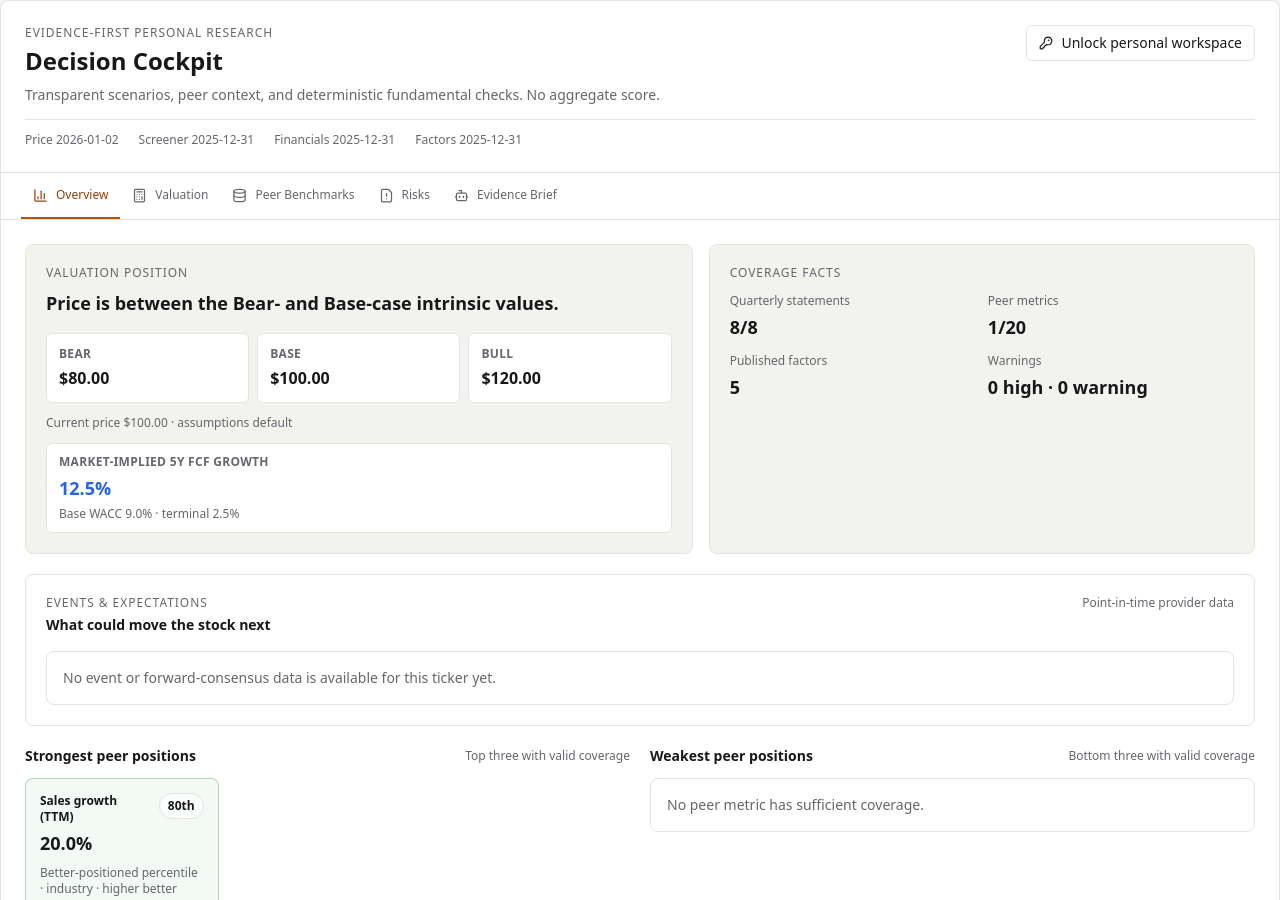
DecisionCockpit › shows unavailable warning coverage instead of a clean result
What coordinates should you click on to do the following:
click the button "Risks"
I would click on:
 (404, 196)
Its box is [366,173,442,219].
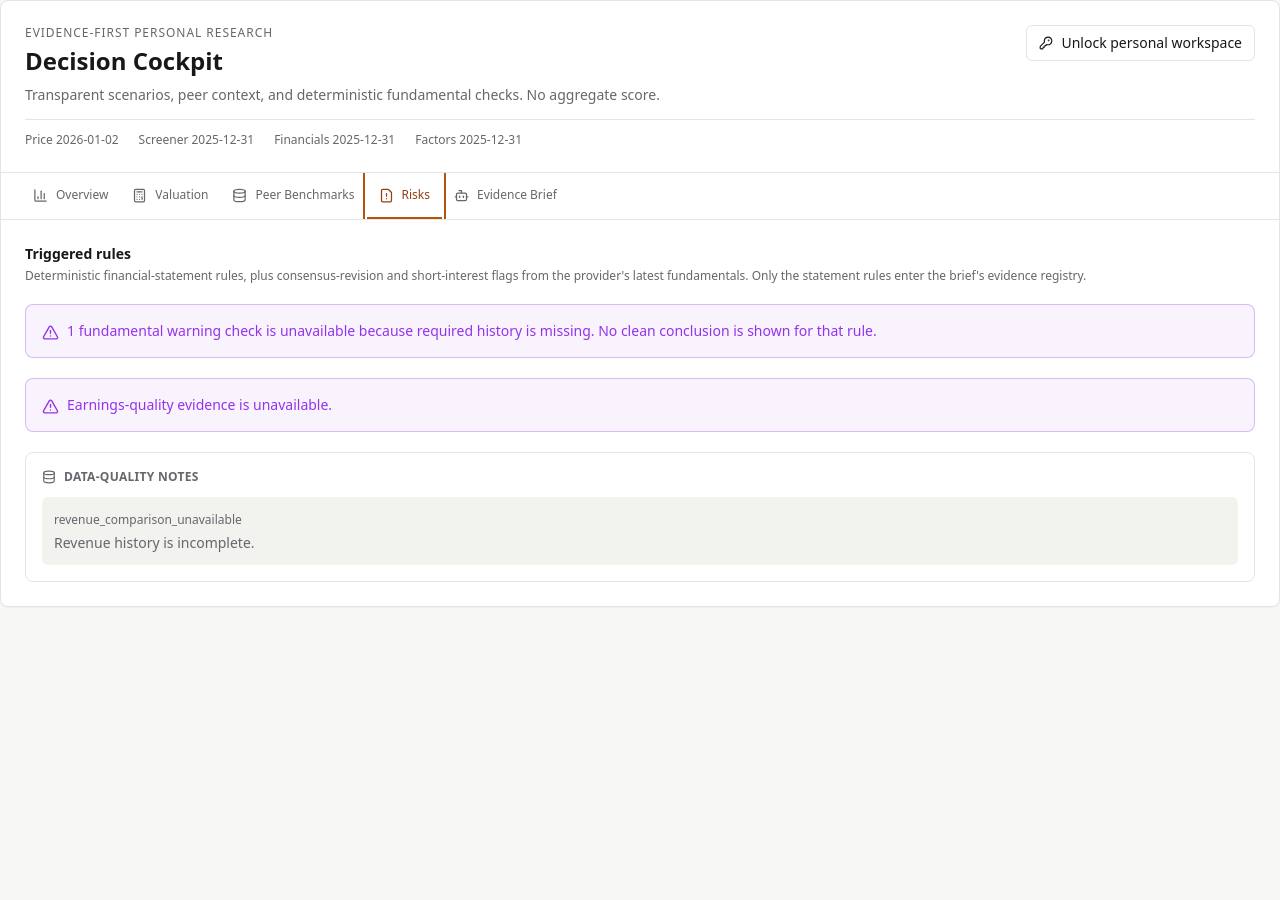
Expected: the text "1 fundamental warning check is unavailable" is shown, [25,304,1255,358]
Result: the text "Revenue history is incomplete." is shown at [54,533,255,552]
